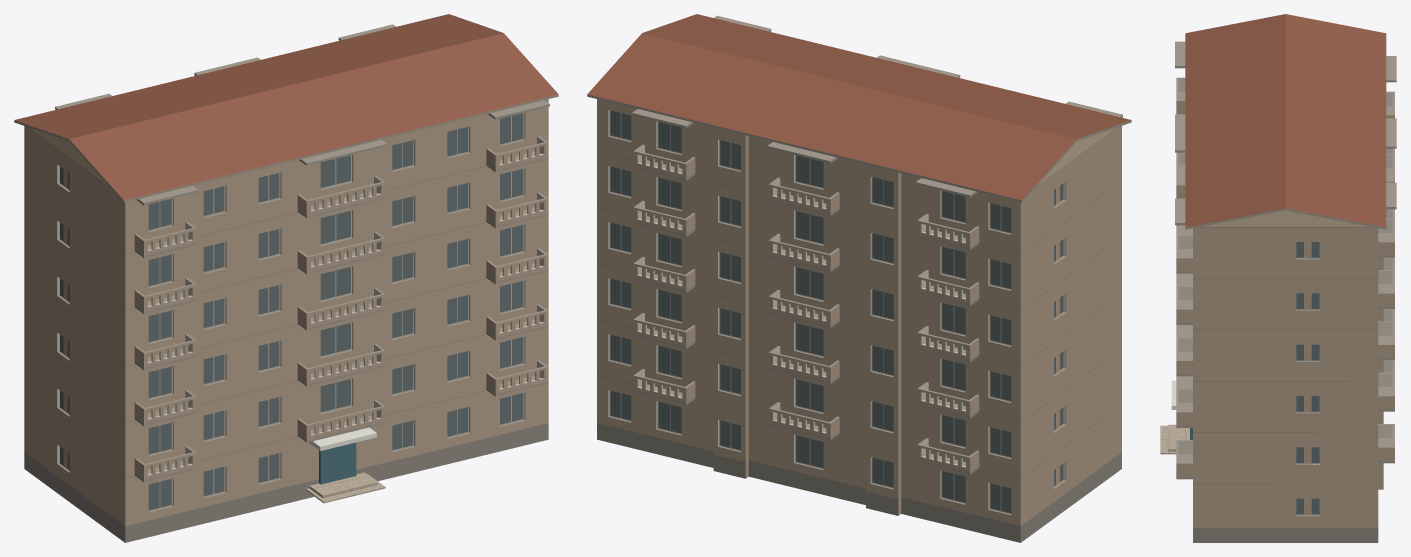
The model's file is chunk-dorm-way-759147062.glb.
The picture shows the model from 3 angles, left to right: view 1: azimuth 30°, elevation 25°; view 2: azimuth 150°, elevation 25°; view 3: azimuth 270°, elevation 25°; orthographic projection. The views are drawn at different scales.
Visible parts, largest first — view 1: chunk-dorm-way-759147062; view 2: chunk-dorm-way-759147062; view 3: chunk-dorm-way-759147062.
Part boxes in pixels (<box>): chunk-dorm-way-759147062: <box>14,14,558,542</box>; chunk-dorm-way-759147062: <box>587,14,1131,542</box>; chunk-dorm-way-759147062: <box>1160,14,1396,542</box>.
Bounding box in the file's own units: 26.78 × 21.67 × 13.75.
Materials: 13 (2 with a texture image).
